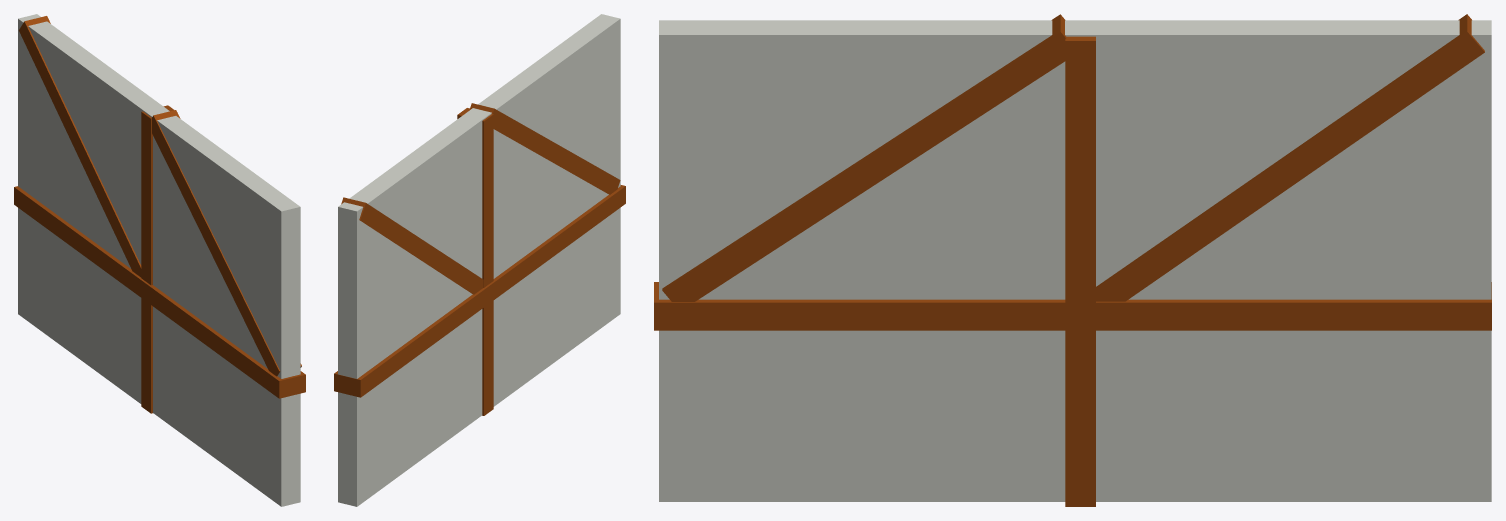
File: NormalWall3.fbx
The picture shows the model from 3 angles, left to right: view 1: azimuth 30°, elevation 25°; view 2: azimuth 150°, elevation 25°; view 3: azimuth 270°, elevation 25°; orthographic projection. The views are drawn at different scales.
Parts seen in each view (by area): view 1: NormalWall3; view 2: NormalWall3; view 3: NormalWall3.
Part boxes in pixels (<box>): NormalWall3: <box>14,14,305,506</box>; NormalWall3: <box>334,14,625,506</box>; NormalWall3: <box>654,14,1491,506</box>.
Bounding box in the file's own units: 113 × 1124 × 1806.
